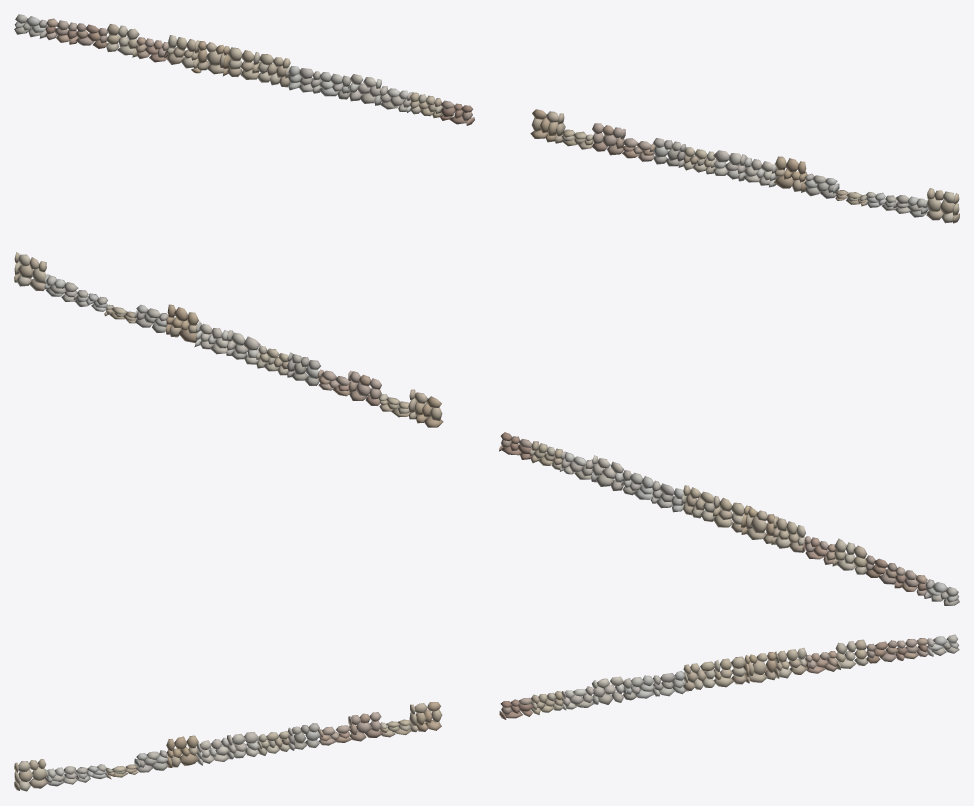
File: farm_2_4_near.glb
3 renders of one model, top to bottom at view 1: azimuth 30°, elevation 25°; view 2: azimuth 210°, elevation 25°; view 3: azimuth 270°, elevation 25°, orthographic. The views are drawn at different scales.
Parts seen in each view (by area): view 1: geometry_0; view 2: geometry_0; view 3: geometry_0.
Boxes of the visible parts, x1,y1,x2,y2 form: geometry_0: (14, 14, 959, 223); geometry_0: (14, 252, 959, 605); geometry_0: (14, 634, 959, 791).
Bounding box in the file's own units: 22.65 × 4.59 × 43.79.
